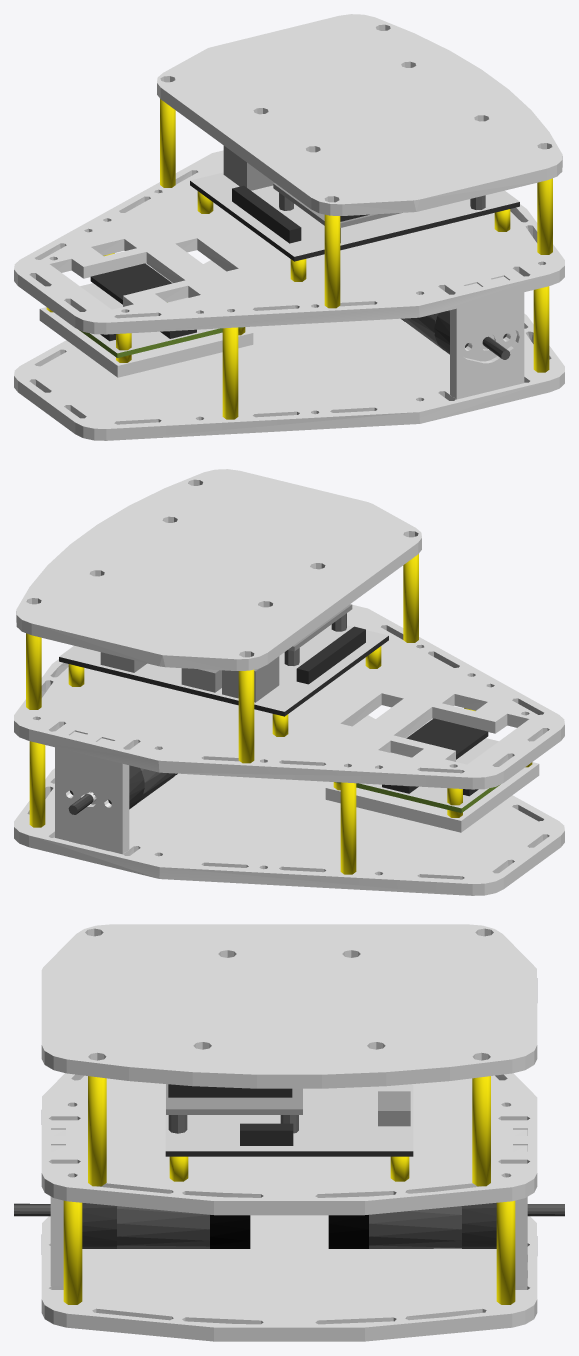
The model's file is complete_chassis.dae.
3 views of the same model, one above another, from view 1: azimuth 30°, elevation 25°; view 2: azimuth 150°, elevation 25°; view 3: azimuth 270°, elevation 25° (orthographic). The views are drawn at different scales.
Visible parts, largest first — view 1: level_2, level_1, level_0, jetson, motor_support, hackerboard, Cube, spacer_40mm.007, spacer_40mm.003, motor.001, spacer_40mm, spacer_40mm.006 (+1 smaller); view 2: level_2, level_1, level_0, jetson, motor_support.001, hackerboard, Cube, spacer_40mm.006, spacer_40mm.002, spacer_40mm.001, motor, spacer_40mm.007 (+1 smaller); view 3: level_2, level_0, level_1, jetson, motor.001, motor, spacer_40mm.004, spacer_40mm.005, spacer_40mm, spacer_40mm.001, motor_support, motor_support.001.
Part boxes in pixels (x1,y1,x2,y2): level_2: (157, 14, 562, 215); level_1: (14, 150, 564, 334); level_0: (14, 260, 564, 440); jetson: (190, 146, 519, 261); motor_support: (450, 276, 524, 399); hackerboard: (78, 263, 244, 357); Cube: (39, 307, 253, 377); spacer_40mm.007: (324, 214, 340, 308); spacer_40mm.003: (222, 327, 238, 419); motor.001: (401, 310, 510, 359); spacer_40mm: (533, 286, 549, 372); spacer_40mm.006: (160, 99, 175, 187); level_2: (16, 469, 421, 670); level_1: (14, 604, 564, 789); level_0: (14, 715, 564, 895); jetson: (59, 604, 388, 716); motor_support.001: (55, 731, 129, 854); hackerboard: (334, 718, 500, 812); Cube: (325, 762, 539, 832); spacer_40mm.006: (238, 669, 254, 763); spacer_40mm.002: (340, 782, 356, 874); spacer_40mm.001: (29, 741, 45, 827); motor: (68, 765, 177, 814); spacer_40mm.007: (403, 554, 418, 642); level_2: (41, 924, 537, 1088); level_0: (41, 1215, 537, 1341); level_1: (41, 1073, 537, 1215); jetson: (165, 1084, 413, 1156); motor.001: (14, 1203, 250, 1248); motor: (328, 1203, 564, 1248); spacer_40mm.004: (88, 1076, 106, 1186); spacer_40mm.005: (472, 1076, 490, 1186); spacer_40mm: (63, 1200, 82, 1304); spacer_40mm.001: (496, 1200, 515, 1304); motor_support: (50, 1129, 65, 1286); motor_support.001: (513, 1129, 527, 1286).
Bounding box in the file's own units: 0.1987 × 0.1778 × 0.095.
